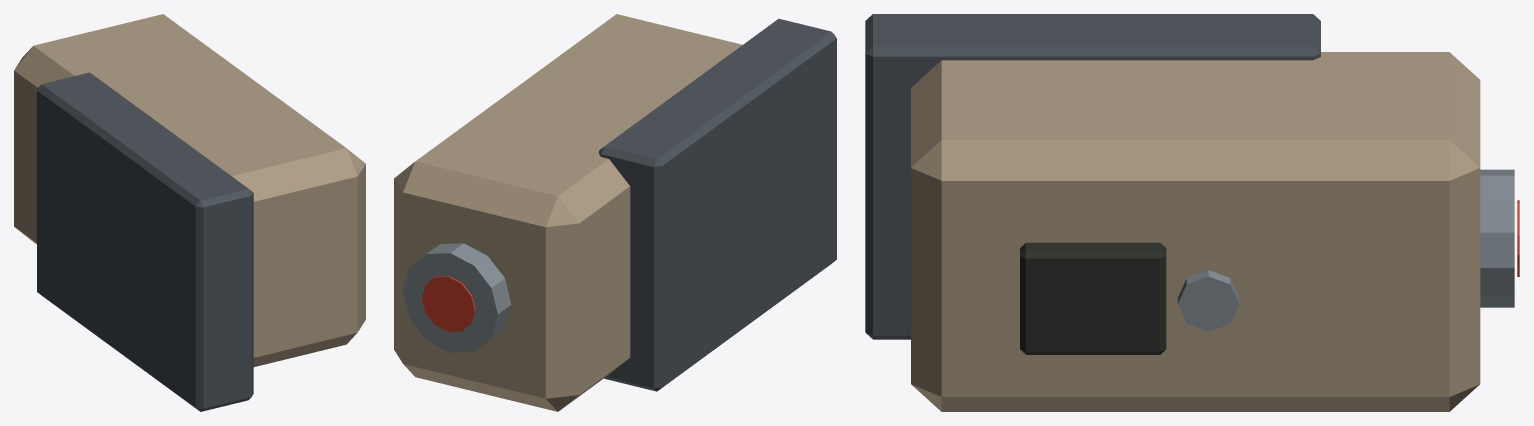
File: att_laser_mlok.glb
3 views of the same model, side by side, from view 1: azimuth 30°, elevation 25°; view 2: azimuth 150°, elevation 25°; view 3: azimuth 270°, elevation 25° (orthographic). The views are drawn at different scales.
Visible parts, largest first — view 1: Geometry_att_laser_mlok; view 2: Geometry_att_laser_mlok; view 3: Geometry_att_laser_mlok.
Part boxes in pixels (left/top/right/bottom): Geometry_att_laser_mlok: left=14, top=14, right=365, bottom=411; Geometry_att_laser_mlok: left=394, top=14, right=836, bottom=411; Geometry_att_laser_mlok: left=865, top=14, right=1519, bottom=411.
Size of the model in its own units: 0.0455 by 0.042 by 0.085.
